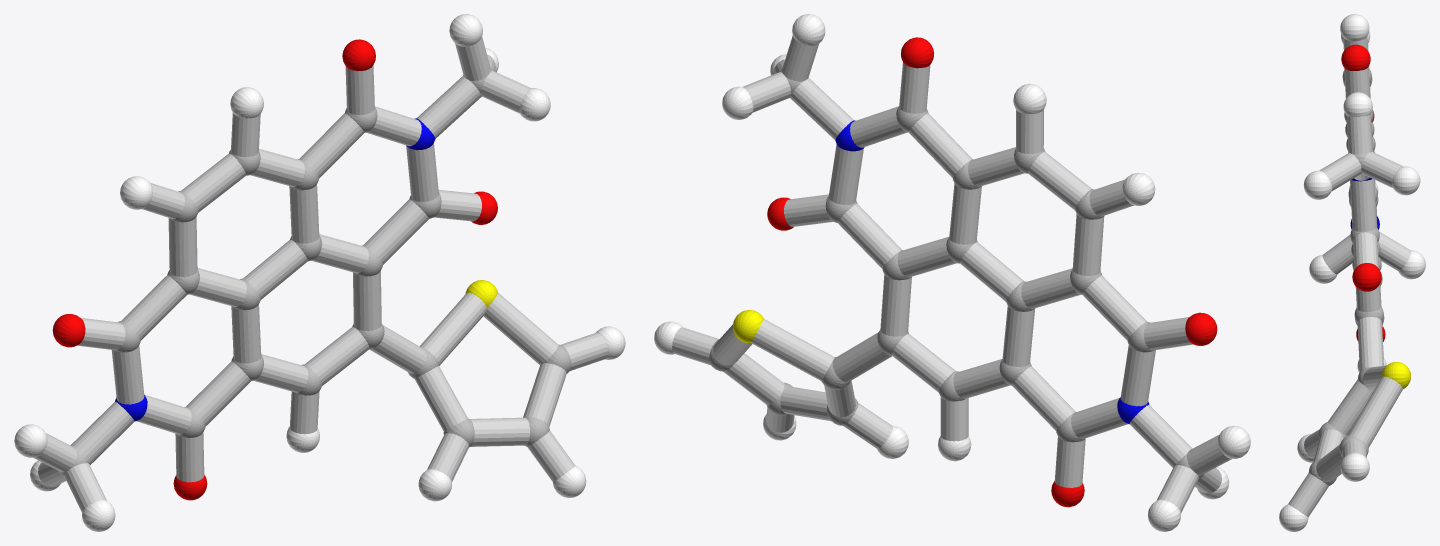
Rendered from Dimethyl_Naphthalene_Dicarboximide_Phi_25_Theta_150_Thiophene.glb.
The picture shows the model from 3 angles, left to right: view 1: azimuth 30°, elevation 25°; view 2: azimuth 150°, elevation 25°; view 3: azimuth 270°, elevation 25°; orthographic projection. The views are drawn at different scales.
Parts seen in each view (by area): view 1: grp14119, grp7241, grp1, grp12309, grp11585; view 2: grp14119, grp7241, grp1, grp12309, grp11585, grp13757; view 3: grp14119, grp7241, grp1, grp12309, grp13757.
Boxes of the visible parts, <box> form: grp14119: <box>33,36,607,512</box>; grp7241: <box>14,14,625,531</box>; grp1: <box>59,68,571,476</box>; grp12309: <box>52,39,497,500</box>; grp11585: <box>115,118,435,421</box>; grp14119: <box>672,35,1231,512</box>; grp7241: <box>654,14,1250,531</box>; grp1: <box>709,69,1203,479</box>; grp12309: <box>767,37,1217,507</box>; grp11585: <box>835,120,1149,424</box>; grp13757: <box>733,310,763,343</box>; grp14119: <box>1288,36,1411,517</box>; grp7241: <box>1279,14,1425,531</box>; grp1: <box>1308,68,1384,485</box>; grp12309: <box>1341,44,1385,341</box>; grp13757: <box>1382,362,1410,388</box>.
Size of the model in its own units: 12.38 by 9.27 by 3.
